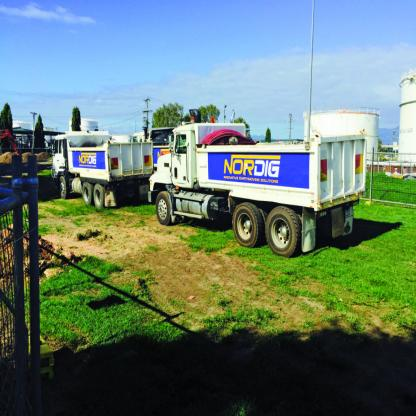dump_truck: (146, 106, 368, 278), (34, 118, 150, 235)
